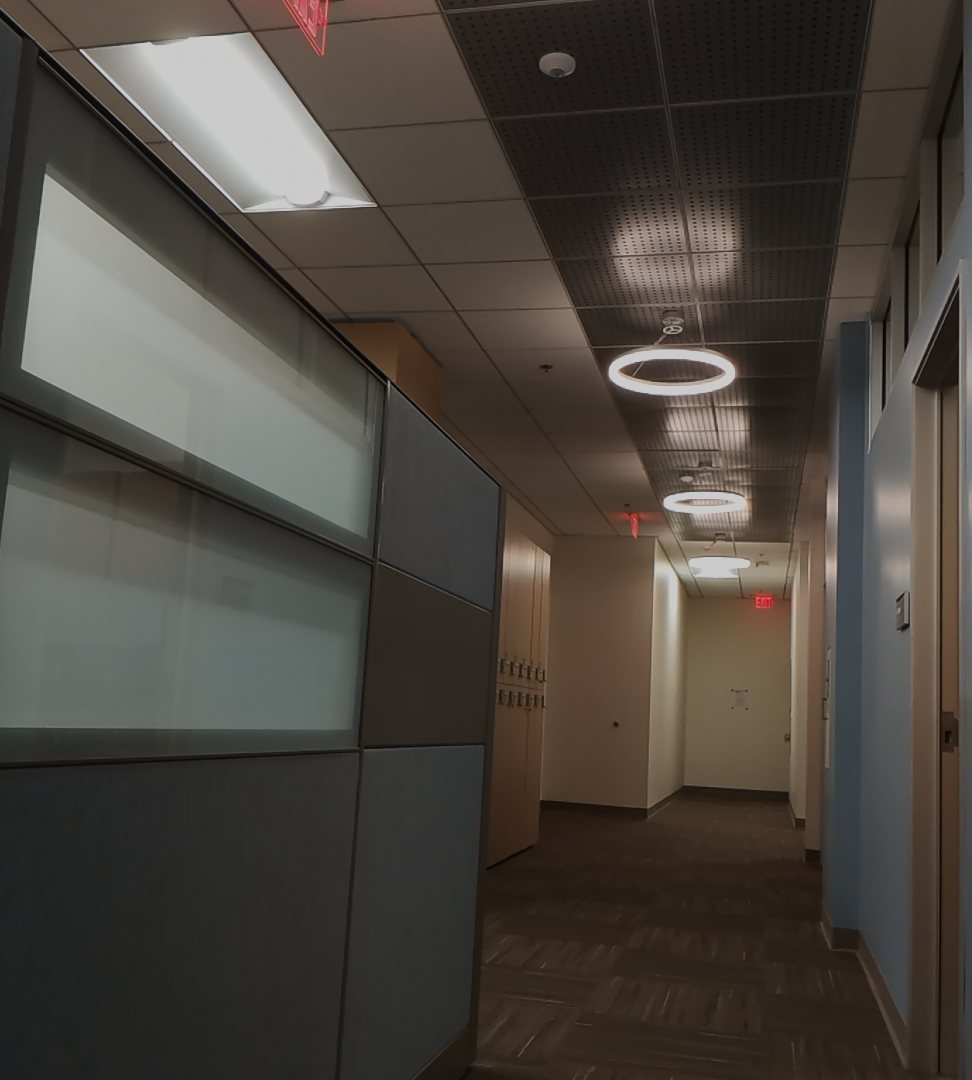emergency_exit: (752, 590, 774, 610)
